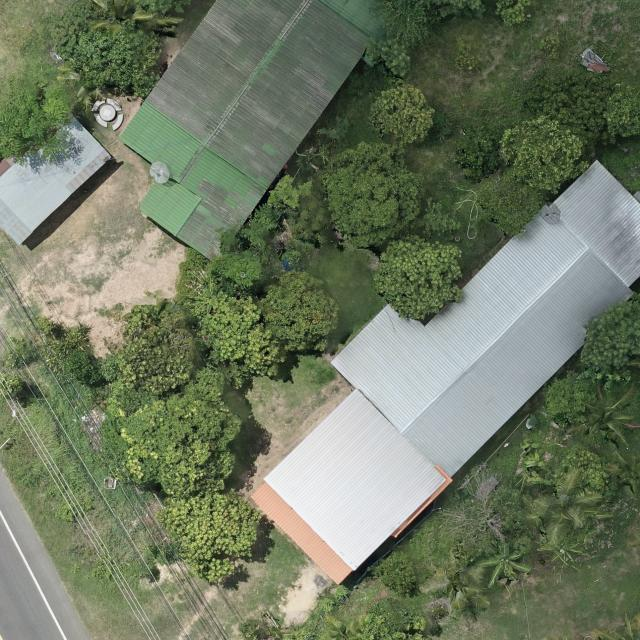Tree: (115, 368, 242, 496), (324, 141, 426, 248), (154, 496, 262, 585), (52, 9, 158, 94), (200, 296, 289, 390), (373, 234, 466, 322), (523, 71, 617, 157), (111, 305, 198, 396), (254, 269, 341, 356), (499, 114, 590, 196), (0, 86, 77, 169), (530, 467, 602, 548), (579, 286, 640, 374), (421, 548, 492, 620), (567, 381, 640, 451), (85, 0, 187, 41), (369, 86, 437, 146), (174, 247, 231, 316), (367, 0, 436, 52), (545, 372, 600, 429), (454, 124, 507, 182), (473, 543, 532, 590), (356, 601, 425, 640), (207, 249, 265, 291), (370, 551, 419, 598), (365, 37, 416, 80), (606, 84, 640, 146), (603, 449, 640, 493), (592, 610, 640, 640), (427, 0, 490, 22), (320, 614, 370, 640), (493, 0, 536, 26), (627, 331, 640, 406), (628, 500, 640, 575), (0, 373, 24, 402)
